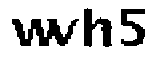5: (119, 5, 151, 49)
h: (83, 7, 114, 48)
v: (51, 14, 78, 46)
w: (8, 16, 53, 48)
